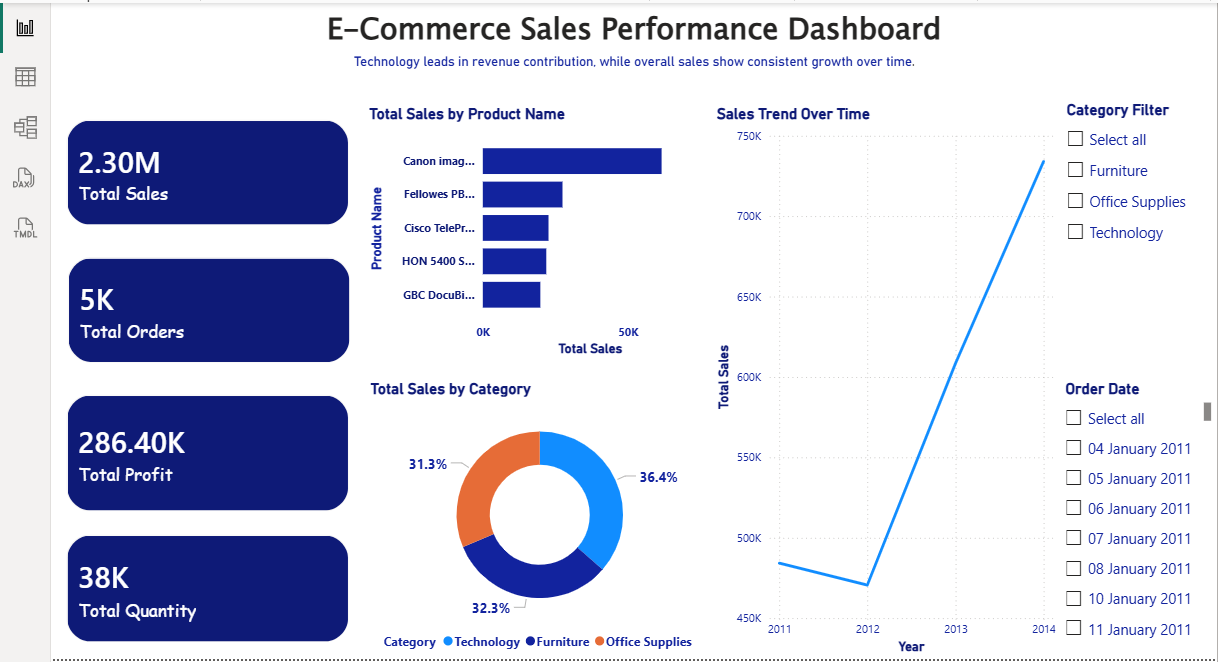

This screenshot's page, from the dashboard's own definition file:
{"tool":"powerbi","page":{"name":"Page 1","canvas":[1280,720],"ordinal":0},"visuals":[{"type":"cardVisual","fields":{"Data":["Orders.Total Profit"]},"box":[0,413.1,344.3,162.3],"z":2002},{"type":"cardVisual","fields":{"Data":["Orders.Total Orders"]},"box":[1.6,262.3,344.3,150.8],"z":2003},{"type":"cardVisual","fields":{"Data":["Orders.Total Quantity"]},"box":[0,567.2,344.3,152.5],"z":2004},{"type":"cardVisual","fields":{"Data":["Orders.Total Sales"]},"box":[0,111.5,344.3,150.8],"z":2005},{"type":"clusteredBarChart","fields":{"Category":["Orders.Product Name"],"Y":["Orders.Total Sales"]},"box":[344.3,111.5,382,282],"z":2006},{"type":"donutChart","fields":{"Category":["Orders.Category"],"Y":["Orders.Total Sales"]},"box":[345.9,413.1,382,306.6],"z":2007},{"type":"lineChart","title":"Sales Trend Over Time","fields":{"Category":["Orders.Order Date.Variation.Date Hierarchy.Year","Orders.Order Date.Variation.Date Hierarchy.Quarter","Orders.Order Date.Variation.Date Hierarchy.Month","Orders.Order Date.Variation.Date Hierarchy.Day"],"Y":["Orders.Total Sales"]},"box":[726.2,111.5,382,608.2],"z":2008},{"type":"listSlicer","title":"Category Filter","fields":{"Values":["Orders.Category"]},"box":[1109.8,106.6,170.5,306.6],"z":2009},{"type":"listSlicer","fields":{"Values":["Orders.Order Date"]},"box":[1108.2,413.1,170.5,301.6],"z":2010},{"type":"textbox","box":[0,0,1280.3,85.2],"z":2011}]}

Visuals, with their boxes on the page's 1280x720 design canvas (x1, y1, x2, y2). These are canvas units, not pixel positions in the 1218x662 screenshot, which may show the page scaled, cropped or inside an application window:
cardVisual - Orders.Total Profit: x1=0, y1=413, x2=344, y2=575
cardVisual - Orders.Total Orders: x1=2, y1=262, x2=346, y2=413
cardVisual - Orders.Total Quantity: x1=0, y1=567, x2=344, y2=720
cardVisual - Orders.Total Sales: x1=0, y1=112, x2=344, y2=262
clusteredBarChart - Orders.Product Name x Orders.Total Sales: x1=344, y1=112, x2=726, y2=394
donutChart - Orders.Category x Orders.Total Sales: x1=346, y1=413, x2=728, y2=720
"Sales Trend Over Time" lineChart: x1=726, y1=112, x2=1108, y2=720
"Category Filter" listSlicer: x1=1110, y1=107, x2=1280, y2=413
listSlicer - Orders.Order Date: x1=1108, y1=413, x2=1279, y2=715
textbox: x1=0, y1=0, x2=1280, y2=85
